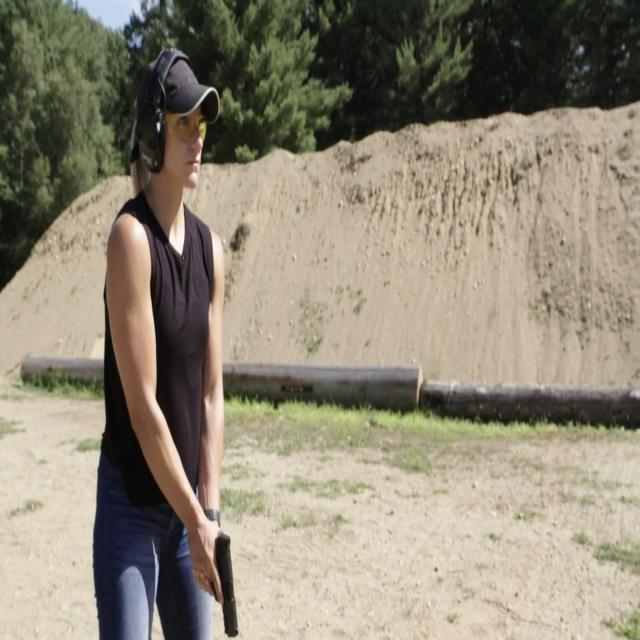Gun_Holder: (187, 500, 251, 640)
Person: (80, 31, 238, 640)
